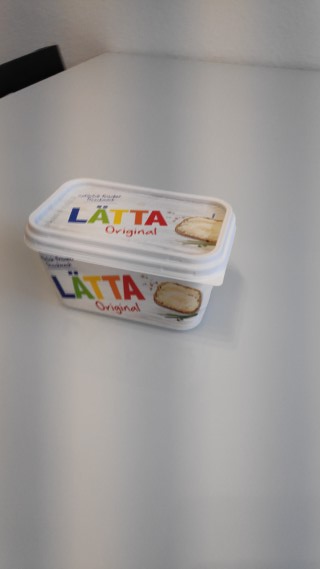laetta: (22, 176, 238, 334)
